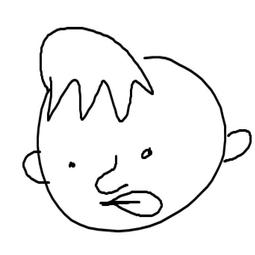ear: (220, 125, 253, 166), (21, 147, 46, 189)
nose: (95, 153, 128, 198)
open_mouth: (101, 189, 165, 220)
small_eye: (138, 144, 154, 162), (65, 159, 79, 171)
